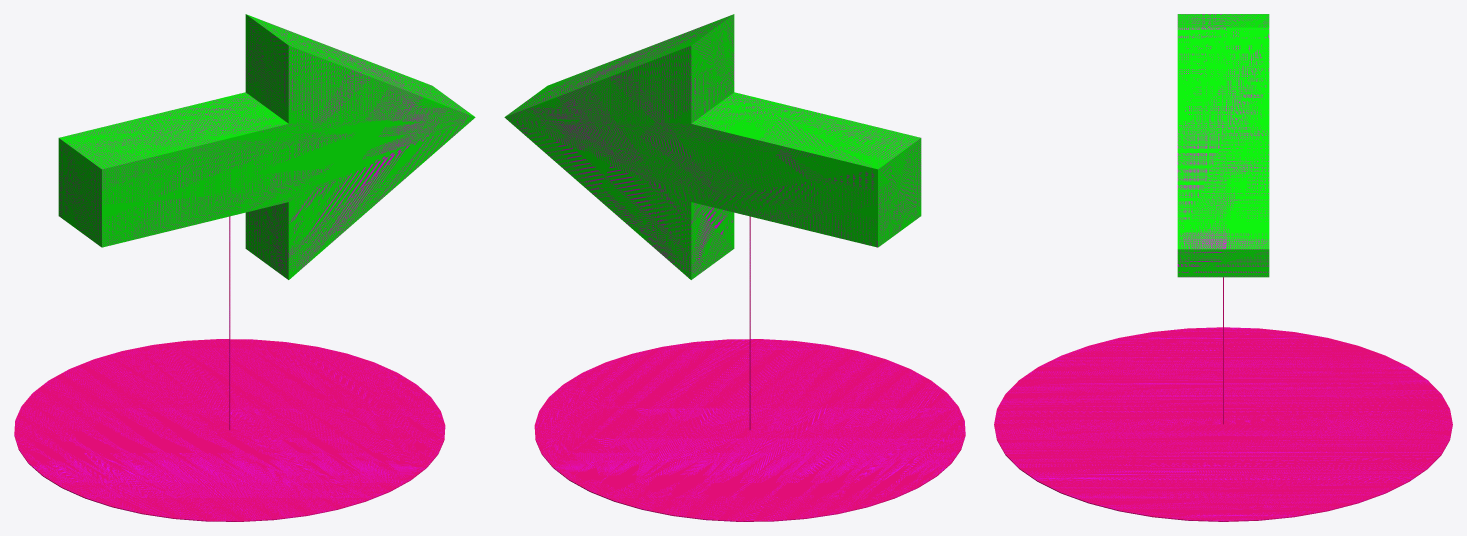
File: waypoint.dae
3 renders of one model, left to right at view 1: azimuth 30°, elevation 25°; view 2: azimuth 150°, elevation 25°; view 3: azimuth 270°, elevation 25°, orthographic. The views are drawn at different scales.
Parts seen in each view (by area): view 1: SketchUp (×2); view 2: SketchUp (×2); view 3: SketchUp (×2).
Part boxes in pixels (x1=…): SketchUp (×2): x1=14, y1=14, x2=475, y2=521; SketchUp (×2): x1=504, y1=14, x2=965, y2=521; SketchUp (×2): x1=994, y1=14, x2=1452, y2=521.
Size of the model in its own units: 21.65 by 19.69 by 19.72.
